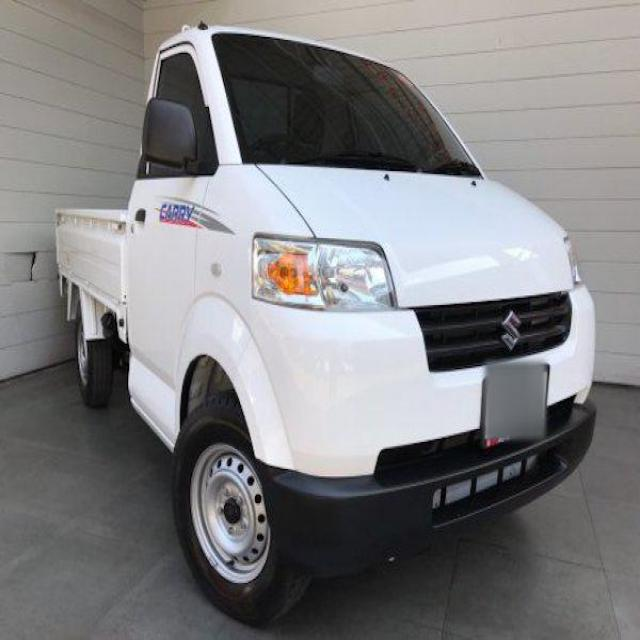front_bumper: (232, 281, 599, 580)
front_glass: (211, 33, 485, 179)
front_right_door: (128, 42, 220, 444)
front_right_light: (252, 233, 396, 313)
hood: (255, 163, 575, 307)
right_mirror: (142, 96, 205, 176)
trunk: (56, 210, 127, 343)
wheel: (75, 300, 313, 625)
